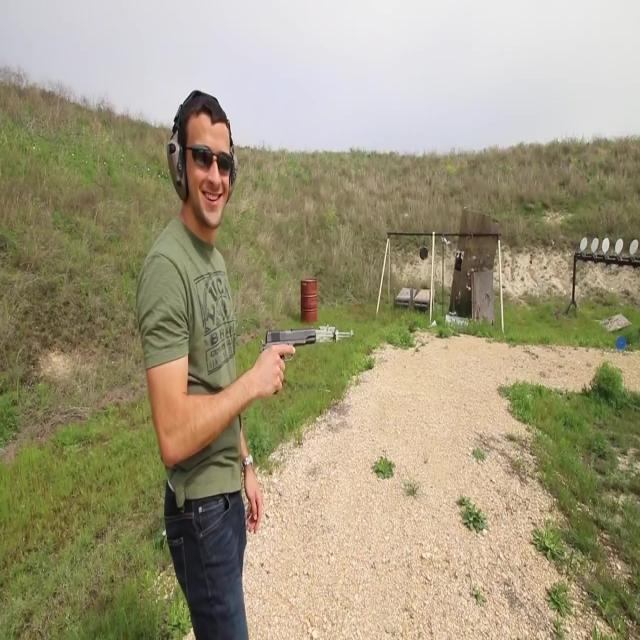Weapon: (257, 292, 327, 420)
